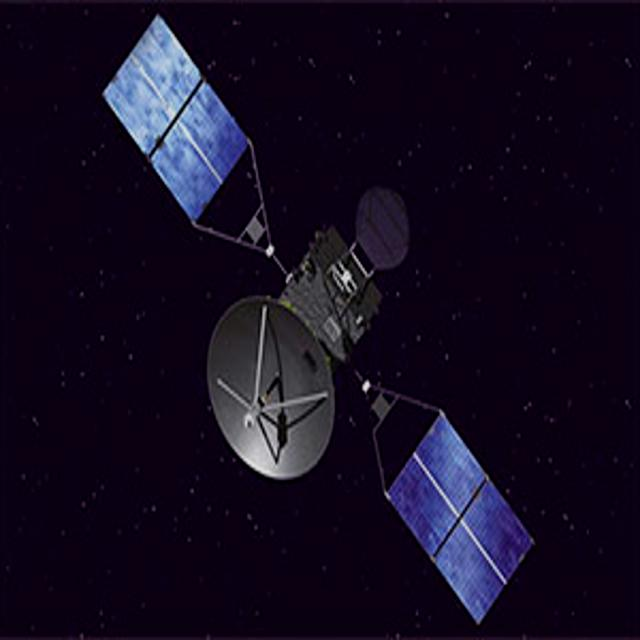satellite: (98, 12, 536, 632)
